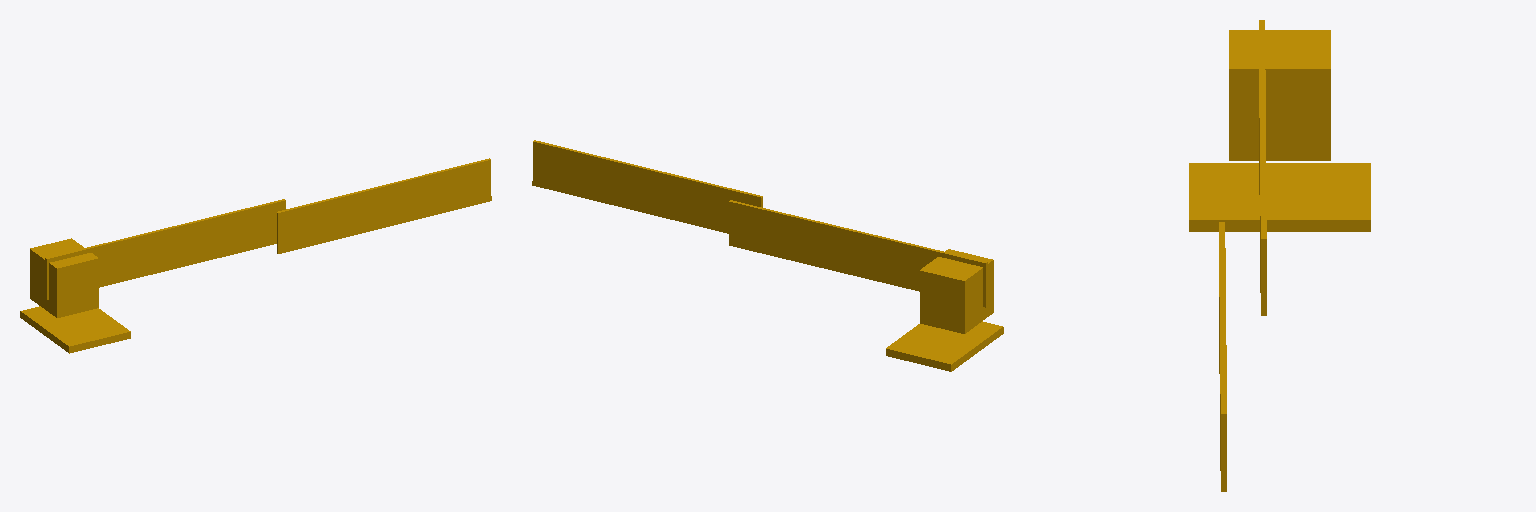
robot.urdf — threedofexample:
<?xml version="1.0"?>

<robot name="threedofexample">

  <!-- ******************************************************** -->
  <!-- ******************* Kinematic Chain ******************** -->
  <!-- ******************************************************** -->
  <!-- Note the 'origin' tag in the joints defines the shift and
       reorientation, i.e. the transform.  For moving joints, this
       happens before the continuous joint rotates around 'axis'. -->

  <!-- World can't take a visual element (at least in Gazebo). -->
  <link name="world"/>

  <joint name="placement" type="fixed">
    <parent link="world"/>
    <child  link="baseplate"/>
    <origin xyz="-0.0585 0 0" rpy="0 0 0"/>			<!-- WHERE IS THE BASE -->
  </joint>

  <!-- BASE PLATE: Shift across the base plate to the base motor. --> 
  <link name="baseplate">
    <visual>
      <origin xyz="0 0 0" rpy="0 0 0"/>
      <geometry>
	<box size="0.117 0.16 0.0125"/>
      </geometry>
      <material name="wood"/>
    </visual>
  </link>

  <joint name="baseplate" type="fixed">
    <parent link="baseplate"/>
    <child  link="basemotor"/>
    <origin xyz="-0.0215 0 0.0125" rpy="0 0 0"/>
  </joint>

  <!-- BASE MOTOR: Thickness: X5 = 31.1mm, X8 = 45.1mm -->
  <link name="basemotor">
    <visual>
    <origin xyz="0 0 0" rpy="0 0 3.1459"/>
      <geometry>
        <mesh filename="package://basic134/meshes/X5.stl"
	      scale="0.001 0.001 0.001"/>
      </geometry>
      <material name="hebi"/>
    </visual>
  </link>

  <joint name="base" type="continuous">
    <parent link="basemotor"/>
    <child  link="lbracket"/>
    <origin xyz="0 0 0.04185" rpy="0 0 3.1459"/>
    <axis   xyz="0 0 1"/>
  </joint>

  <!-- L BRACKET: Shift and rotate across the L bracket. -->
  <link name="lbracket">
    <visual>
      <origin xyz="0 0 0.03483" rpy="0 0 0"/>
      <geometry>
	<box size="0.08 0.09 0.09"/>
      </geometry>
      <material name="wood"/>
    </visual>
  </link>

  <joint name="lbracket" type="fixed">
    <parent link="lbracket"/>
    <child  link="shouldermotor"/>
    <origin xyz="0 -0.0311 0.05" rpy="-1.5708 1.5708 0"/>	  <!-- L BRACKET DIMENIONS -->
  </joint>

  <!-- SHOULDER MOTOR: Thickness: X5 = 31.1mm, X8 = 45.1mm -->
  <link name="shouldermotor">
    <visual>
    <origin xyz="0 0 0" rpy="0 0 0"/>
      <geometry>
        <mesh filename="package://basic134/meshes/X8.stl"
	      scale="0.001 0.001 0.001"/>
      </geometry>
      <material name="hebi"/>
    </visual>
  </link>

  <joint name="shoulder" type="continuous">
    <parent link="shouldermotor"/>
    <child  link="upperarm"/>
    <origin xyz="0 0 0.04698" rpy="0 0 1.5708"/>
    <axis   xyz="0 0 1"/>
  </joint>

  <!-- UPPER ARM: Shift across the upper arm (1/4in thickness) -->
  <link name="upperarm">
    <visual>
      <origin xyz="0.183365 0 0" rpy="0 0 0"/>
      <geometry>
	<box size="0.455 0.075 0.00571"/>
      </geometry>
      <material name="wood"/>
    </visual>
    <!-- Add a visual element -->
  </link>

  <joint name="upperarm" type="fixed">
    <parent link="upperarm"/>
    <child  link="elbowmotor"/>
    <origin xyz="0.402 0 0.00572" rpy="0 0 0"/>		  <!-- UPPER ARM DIMENIONS -->
  </joint>

  <!-- Elbow motor.  Thickness: X5 = 31.1mm, X8 = 45.1mm -->
  <link name="elbowmotor">
    <visual>
      <geometry>
        <mesh filename="package://basic134/meshes/X5.stl"
	      scale="0.001 0.001 0.001"/>
      </geometry>
      <material name="hebi"/>
    </visual>
  </link>

  <joint name="elbow" type="continuous">
    <parent link="elbowmotor"/>
    <child  link="lowerarm"/>
    <origin xyz="0 0 0.0311" rpy="0 0 3.1459"/>
    <axis   xyz="0 0 1"/>
  </joint>

  <!-- Shift across the upper arm (1/4in thickness) -->
  <link name="lowerarm">
    <visual>
    <origin xyz="-0.175 0 0" rpy="0 0 0"/>
      <geometry>
    <box size="0.405 0.075 0.00572"/>
      </geometry>
      <material name="wood"/>
    </visual>
  </link>

  <joint name="lowerarm" type="fixed">
    <parent link="lowerarm"/>
    <child  link="tip"/>
    <origin xyz="-0.378 0 0" rpy="0 0 3.1459"/>		  <!-- LOWER ARM DIMENIONS -->
  </joint>

  <!-- TIP FRAME -->
  <link name="tip"/>

  
  <!-- *************************************************** -->
  <!-- *************** Visual Link Elements ************** -->
  <!-- *************************************************** -->
  <!-- Note collada .dae files have better color/texture   -->
  <!-- suppport that STL files.                            -->

  <!-- Colors -->
  <material name="wood">  <color rgba="0.82 0.62 0.04 1"/>  </material>
  <material name="hebi">  <color rgba="0.82 0.06 0.06 1"/>  </material>

</robot>

--- Facts derived from the render (not from the file) ---
3 views of the same robot in one strip: view 1: azimuth 30°, elevation 25°; view 2: azimuth 150°, elevation 25°; view 3: azimuth 270°, elevation 25° (orthographic).
Model threedofexample with 9 links and 8 joints (3 continuous, 5 fixed), rooted at world, posed all joints at 0.
Links seen in each view (by area): view 1: lowerarm, upperarm, lbracket, baseplate; view 2: upperarm, lowerarm, lbracket, baseplate; view 3: lbracket, baseplate, upperarm, lowerarm.
Boxes of the visible links, x1,y1,x2,y2 form: lowerarm: [277, 158, 491, 253]; upperarm: [45, 199, 285, 299]; lbracket: [30, 238, 98, 317]; baseplate: [20, 306, 130, 353]; upperarm: [729, 200, 987, 307]; lowerarm: [532, 140, 762, 233]; lbracket: [920, 249, 993, 333]; baseplate: [886, 321, 1003, 371]; lbracket: [1229, 30, 1330, 160]; baseplate: [1189, 163, 1370, 231]; upperarm: [1259, 20, 1266, 315]; lowerarm: [1219, 222, 1226, 491].
Size in the robot's own frame: 0.824 by 0.16 by 0.1497 metres.
Meshes: 2 distinct files referenced, 0 mesh visuals loaded (none loaded); not drawn: 3 (file found but could not be loaded).
